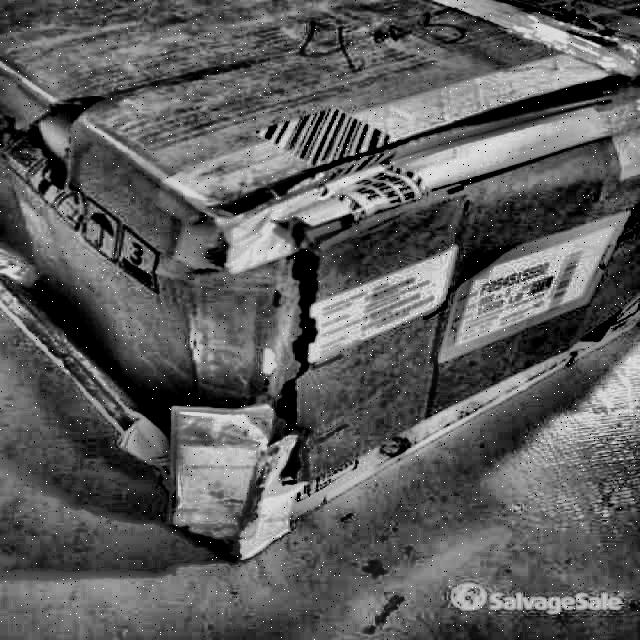box: (0, 0, 639, 574)
hole: (254, 249, 319, 491), (22, 89, 104, 193)
